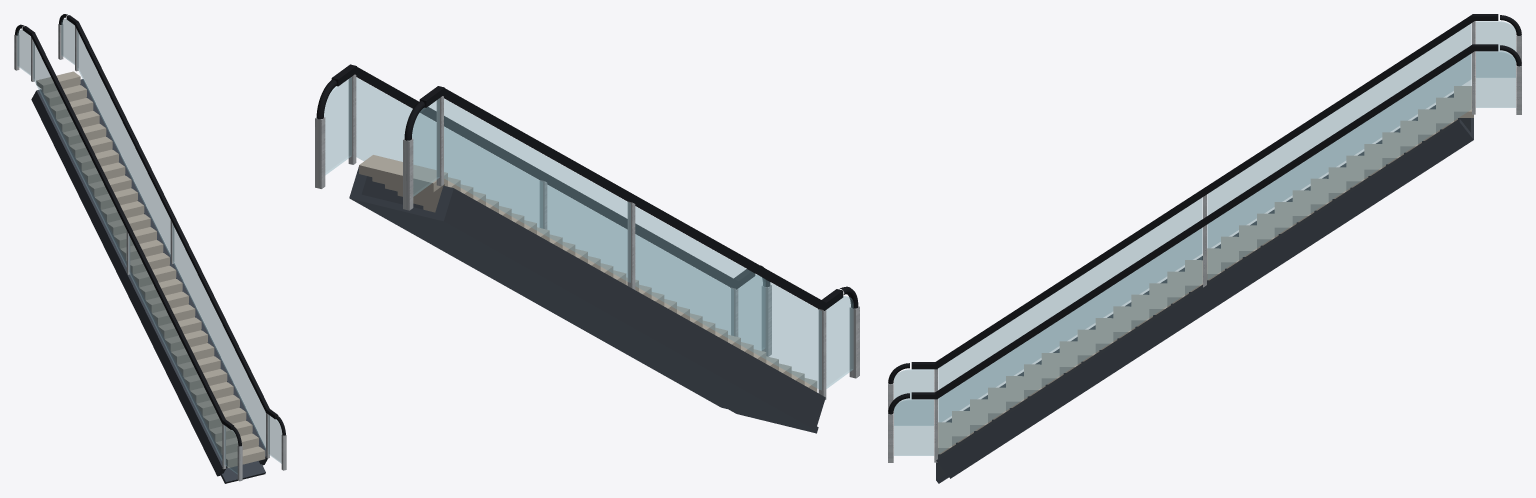
Rendered from stair-straight.glb.
3 renders of one model, left to right at view 1: azimuth 30°, elevation 25°; view 2: azimuth 150°, elevation 25°; view 3: azimuth 270°, elevation 25°, orthographic. The views are drawn at different scales.
Visible parts, largest first — view 1: StairStraight, stair-riser (×28), stair-stringer (×2), stair-soffit; view 2: StairStraight, stair-stringer (×2), stair-soffit, stair-tread; view 3: StairStraight, stair-stringer.
Part boxes in pixels (x1,y1,x2,y2): StairStraight: (14, 14, 286, 481); stair-riser (×28): (42, 75, 265, 467); stair-stringer (×2): (31, 79, 267, 476); stair-soffit: (92, 192, 265, 483); StairStraight: (315, 64, 859, 399); stair-stringer (×2): (349, 167, 825, 430); stair-soffit: (357, 194, 818, 433); stair-tread: (359, 156, 446, 192); StairStraight: (888, 14, 1521, 462); stair-stringer: (936, 118, 1473, 478).
Size of the model in its own units: 1 by 6.32 by 8.25.
Materials: 5 (1 with a texture image).
